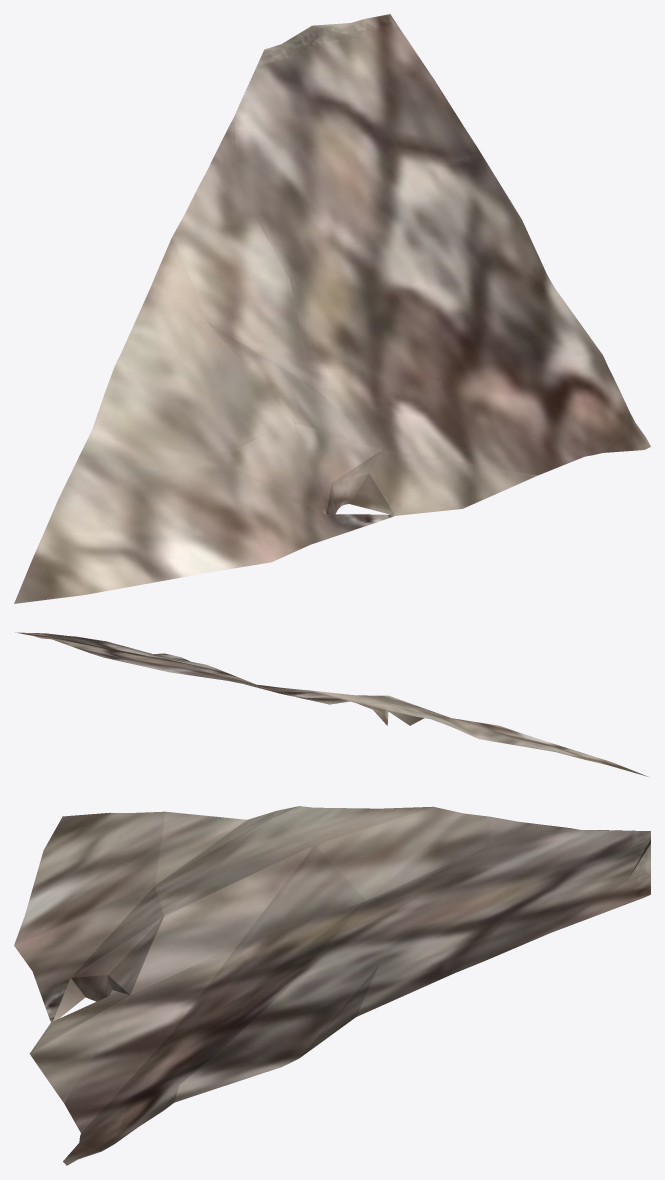
3 views of the same model, one above another, from view 1: azimuth 30°, elevation 25°; view 2: azimuth 150°, elevation 25°; view 3: azimuth 270°, elevation 25° (orthographic). The views are drawn at different scales.
Size of the model in its own units: 1.52 by 0.5679 by 1.17.
Materials: 1 (1 with a texture image).
